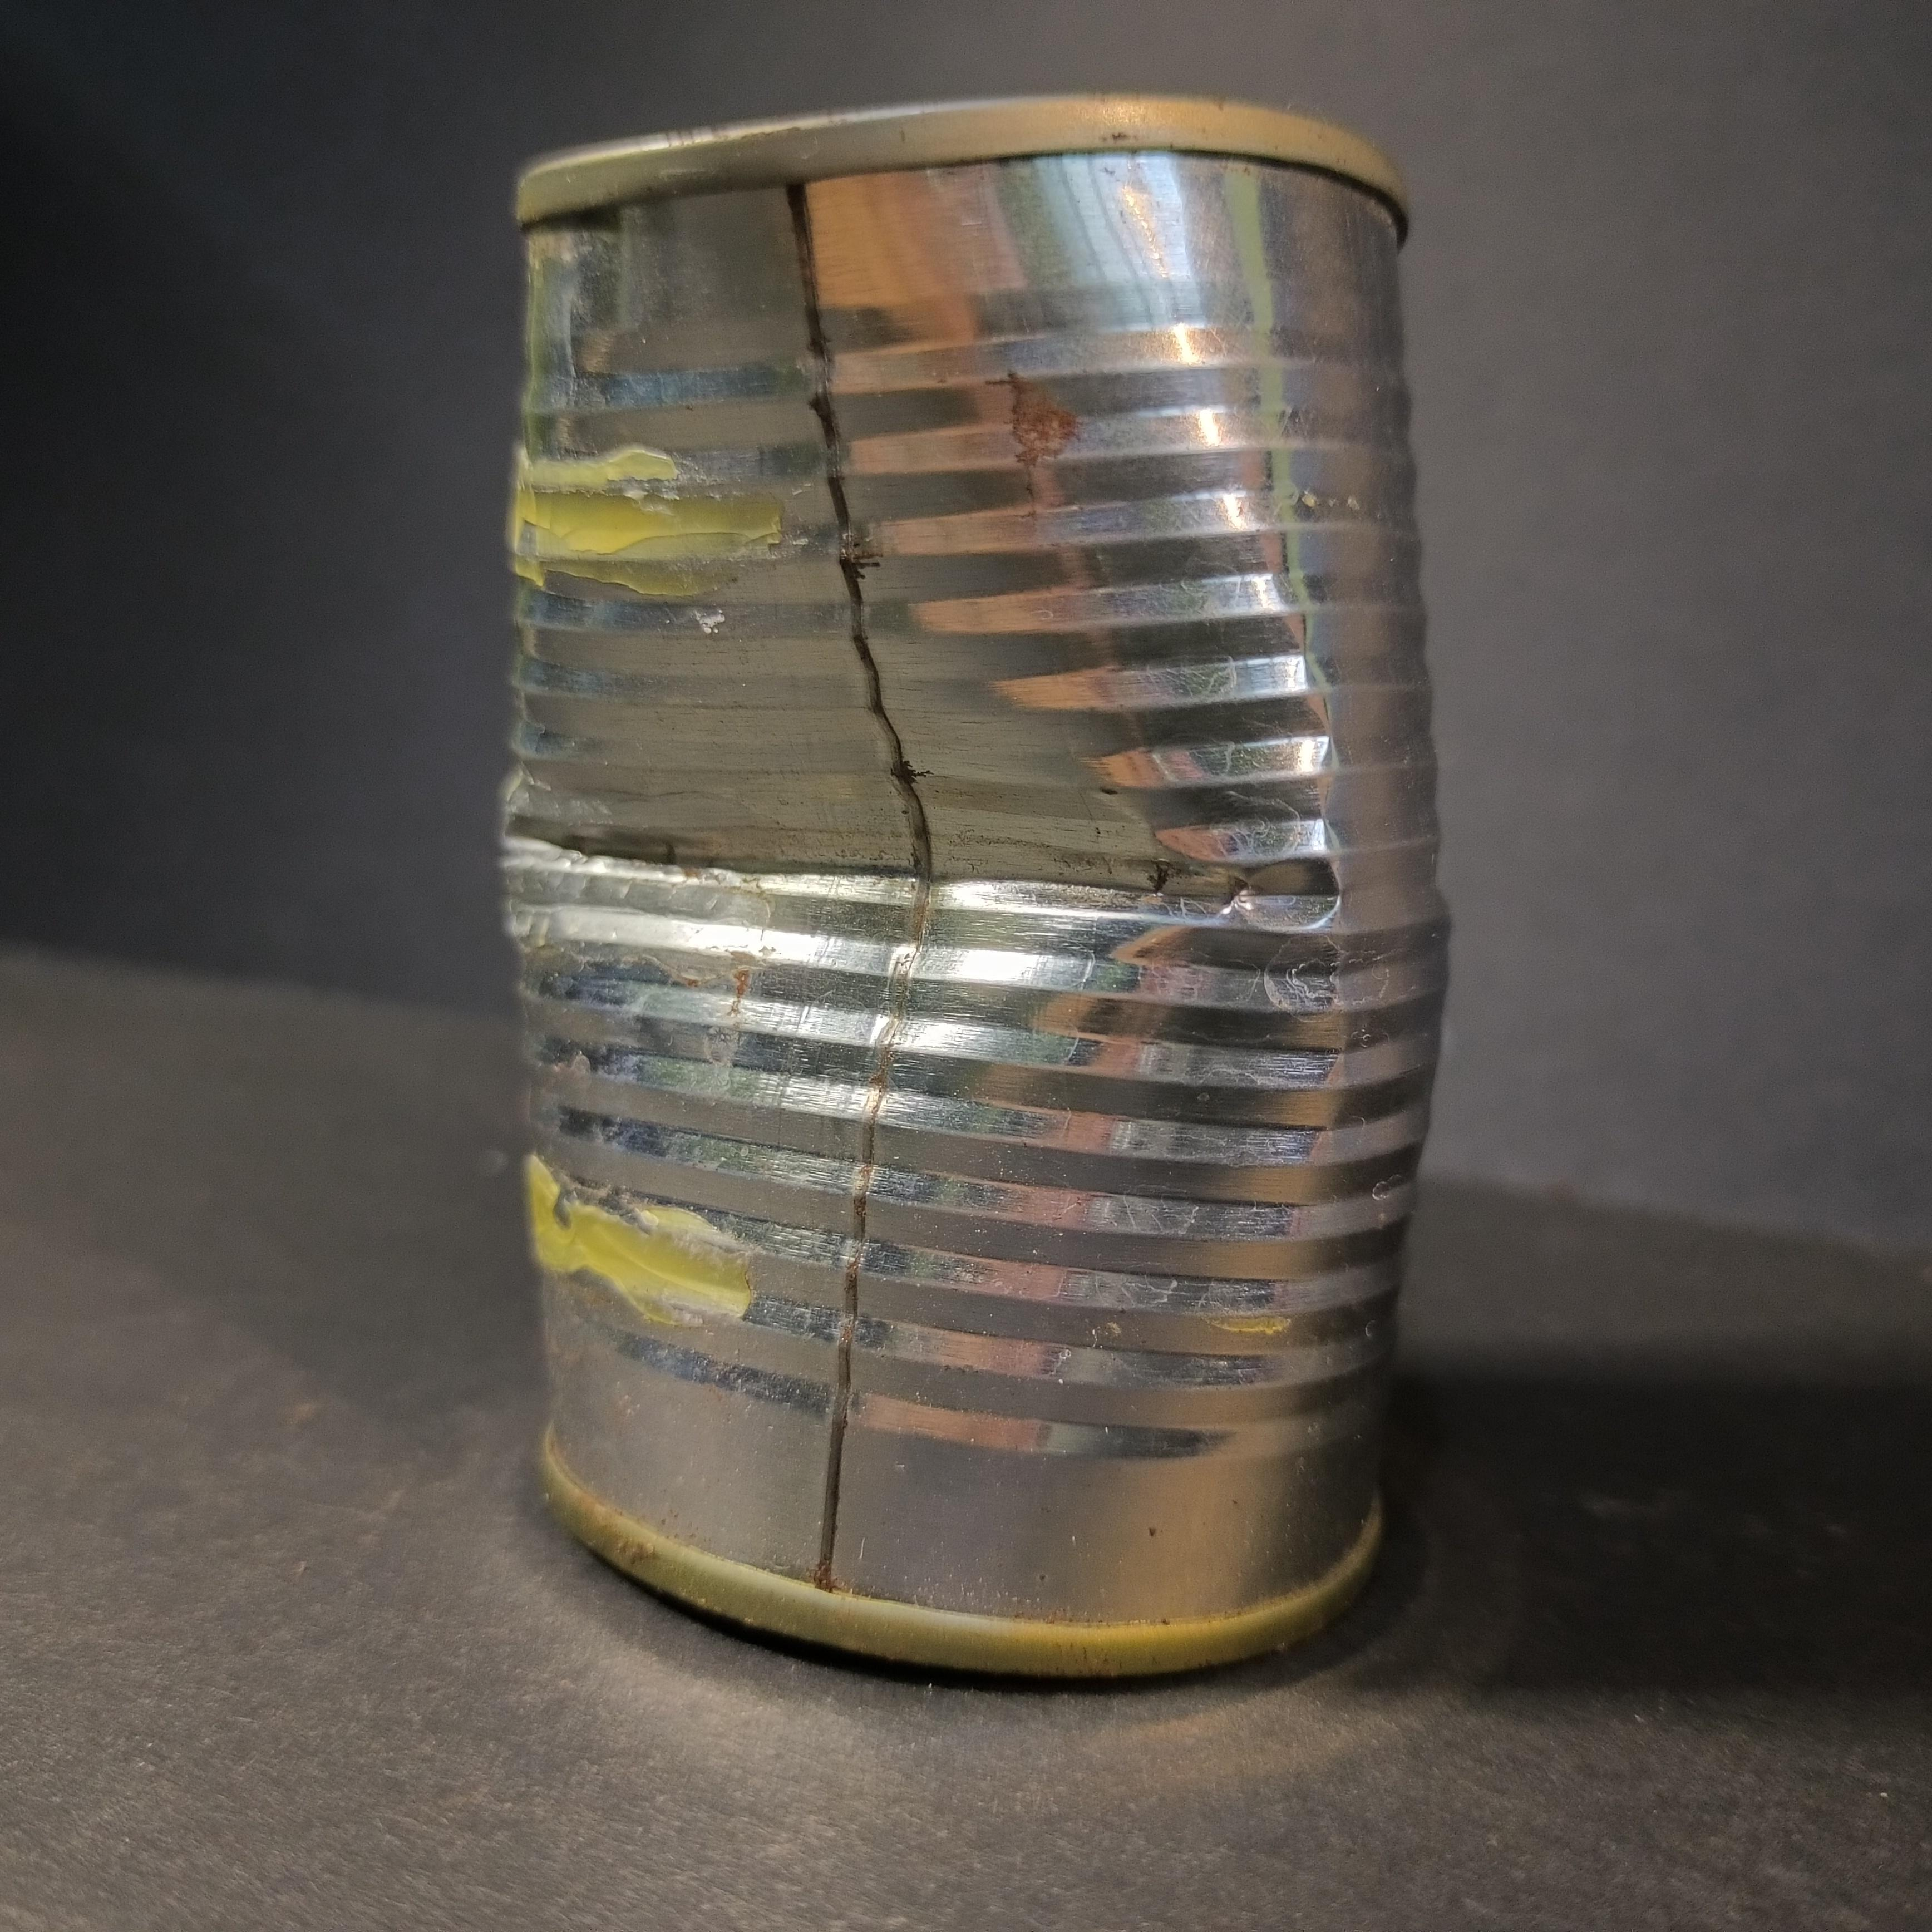Dented: (476, 62, 1453, 1714)
